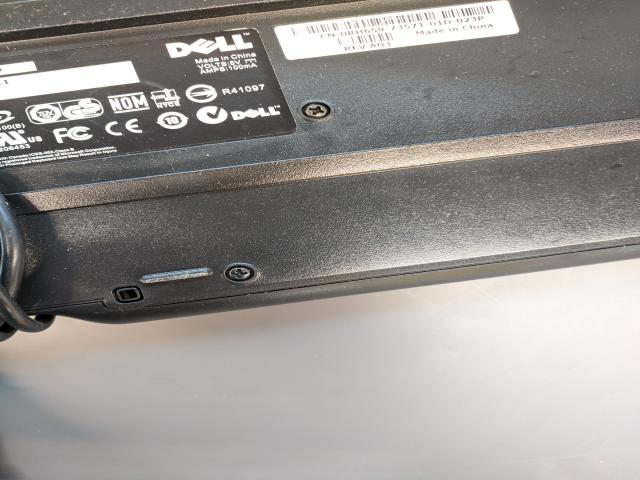CRS: (302, 102, 329, 119), (226, 266, 252, 281)
